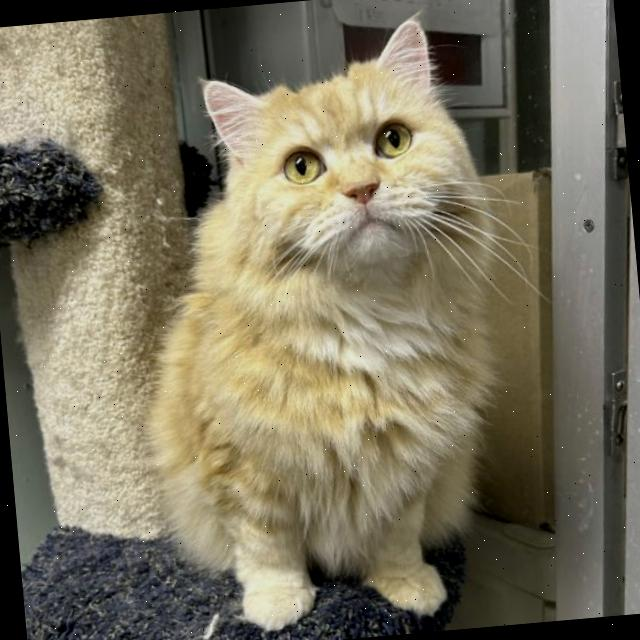persian_cat: (172, 1, 519, 334)
